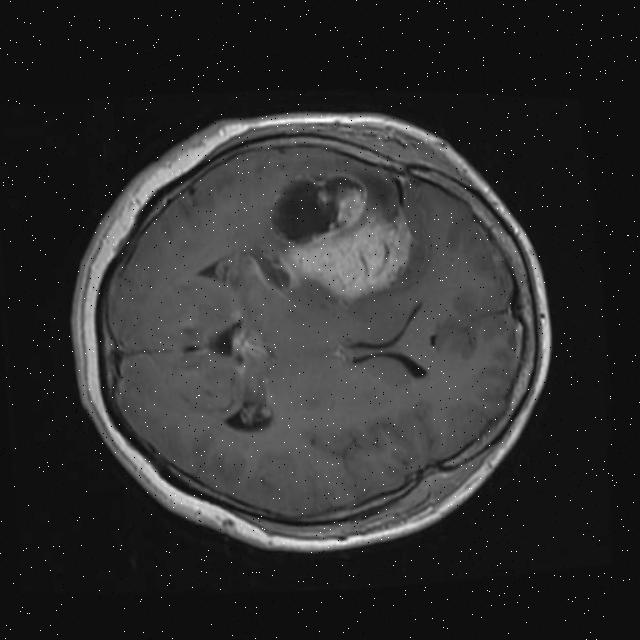Meningioma: (277, 194, 423, 313), (329, 181, 371, 231)
